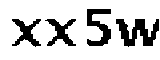5: (84, 5, 115, 49)
w: (113, 15, 160, 51)
x: (44, 16, 80, 49), (8, 17, 43, 47)
